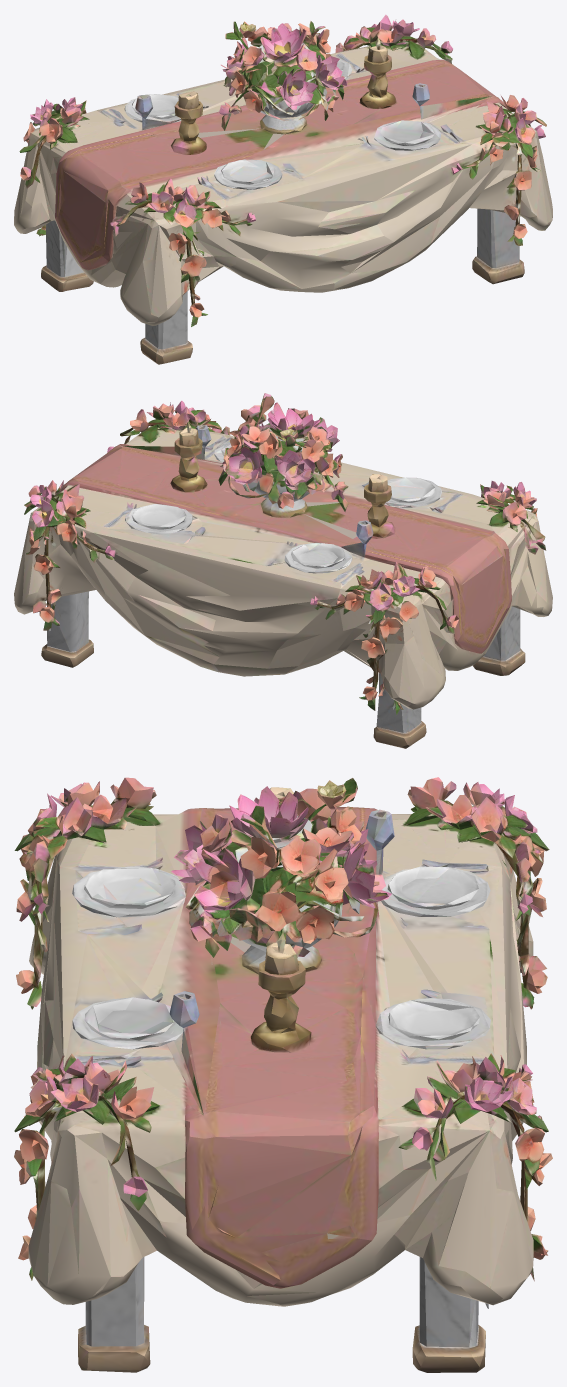
Rendered from wh_banquet_table.fbx.
The picture shows the model from 3 angles, top to bottom: view 1: azimuth 30°, elevation 25°; view 2: azimuth 150°, elevation 25°; view 3: azimuth 270°, elevation 25°; orthographic projection. The views are drawn at different scales.
Visible parts, largest first — view 1: wh_banquet_table; view 2: wh_banquet_table; view 3: wh_banquet_table.
Boxes of the visible parts, x1,y1,x2,y2 form: wh_banquet_table: [14, 14, 552, 364]; wh_banquet_table: [14, 393, 552, 748]; wh_banquet_table: [14, 777, 552, 1372].
Bounding box in the file's own units: 2.47 × 1.4 × 1.57.
